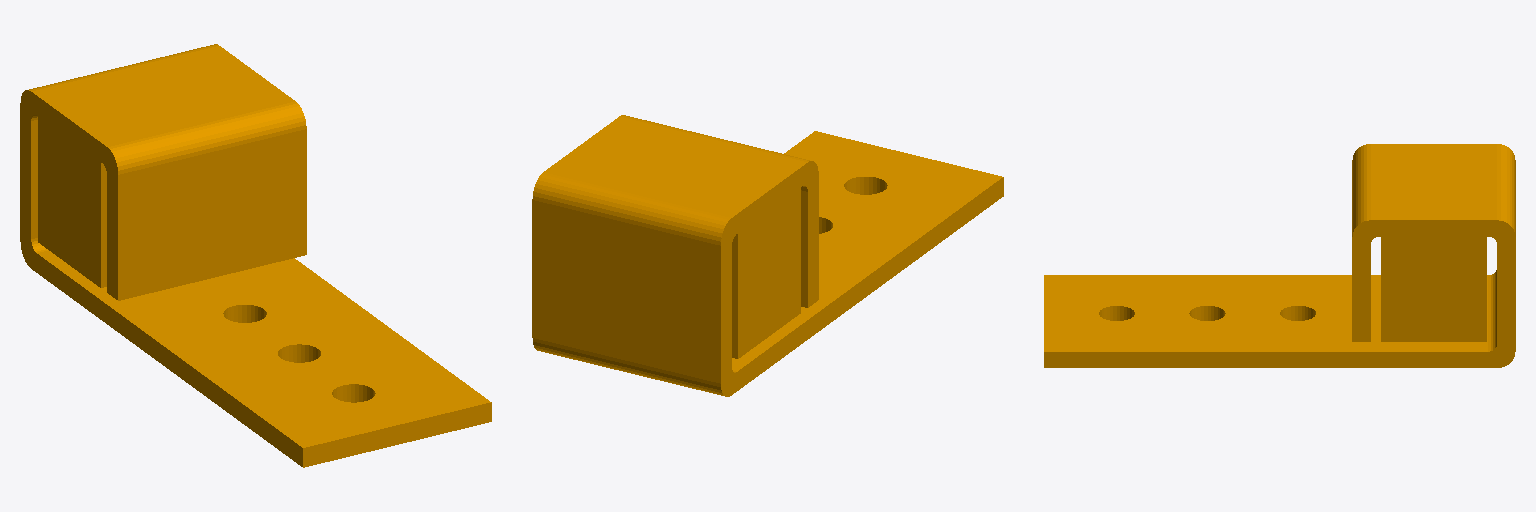
URDF robot description (benchmark_part_1):
<robot name="benchmark_part_1">
  <link name="base_link">
    <visual>
      <geometry>
        <mesh filename="benchmark_parts_stl/benchmark_part_1.stl" scale="0.001 0.001 0.001" />
      </geometry>
    <origin xyz="0.4000000000000001 -0.12841377971865509 -0.016906195056284656" rpy="0 0 0" /></visual>
    <collision>
      <geometry>
        <mesh filename="benchmark_parts_stl/benchmark_part_1_vhacd.obj" scale="0.01 0.01 0.01" />
      </geometry>
    <origin xyz="0.4000000000000001 -0.12841377971865509 -0.016906195056284656" rpy="0 0 0" /></collision>
    <inertial>
      <mass value="0.1" />
      <inertia ixx="0.001" ixy="0.0" ixz="0.0" iyy="0.001" iyz="0.0" izz="0.001" />
    </inertial>
  </link>
</robot>

--- Render facts (derived) ---
3 views of the same robot in one strip: view 1: azimuth 30°, elevation 25°; view 2: azimuth 150°, elevation 25°; view 3: azimuth 270°, elevation 25° (orthographic).
Robot: benchmark_part_1 — 1 links, 0 joints (none); root link base_link; default pose: every joint at zero.
Visible links, largest first — view 1: base_link; view 2: base_link; view 3: base_link.
Boxes of the visible links, x1=… form: base_link: x1=20, y1=44, x2=491, y2=467; base_link: x1=532, y1=115, x2=1003, y2=396; base_link: x1=1044, y1=144, x2=1515, y2=367.
Bounding box of the posed robot: 0.05 × 0.13 × 0.045 m (x, y, z).
Meshes: 1 distinct files referenced, 1 mesh visuals loaded (1 binary STL).